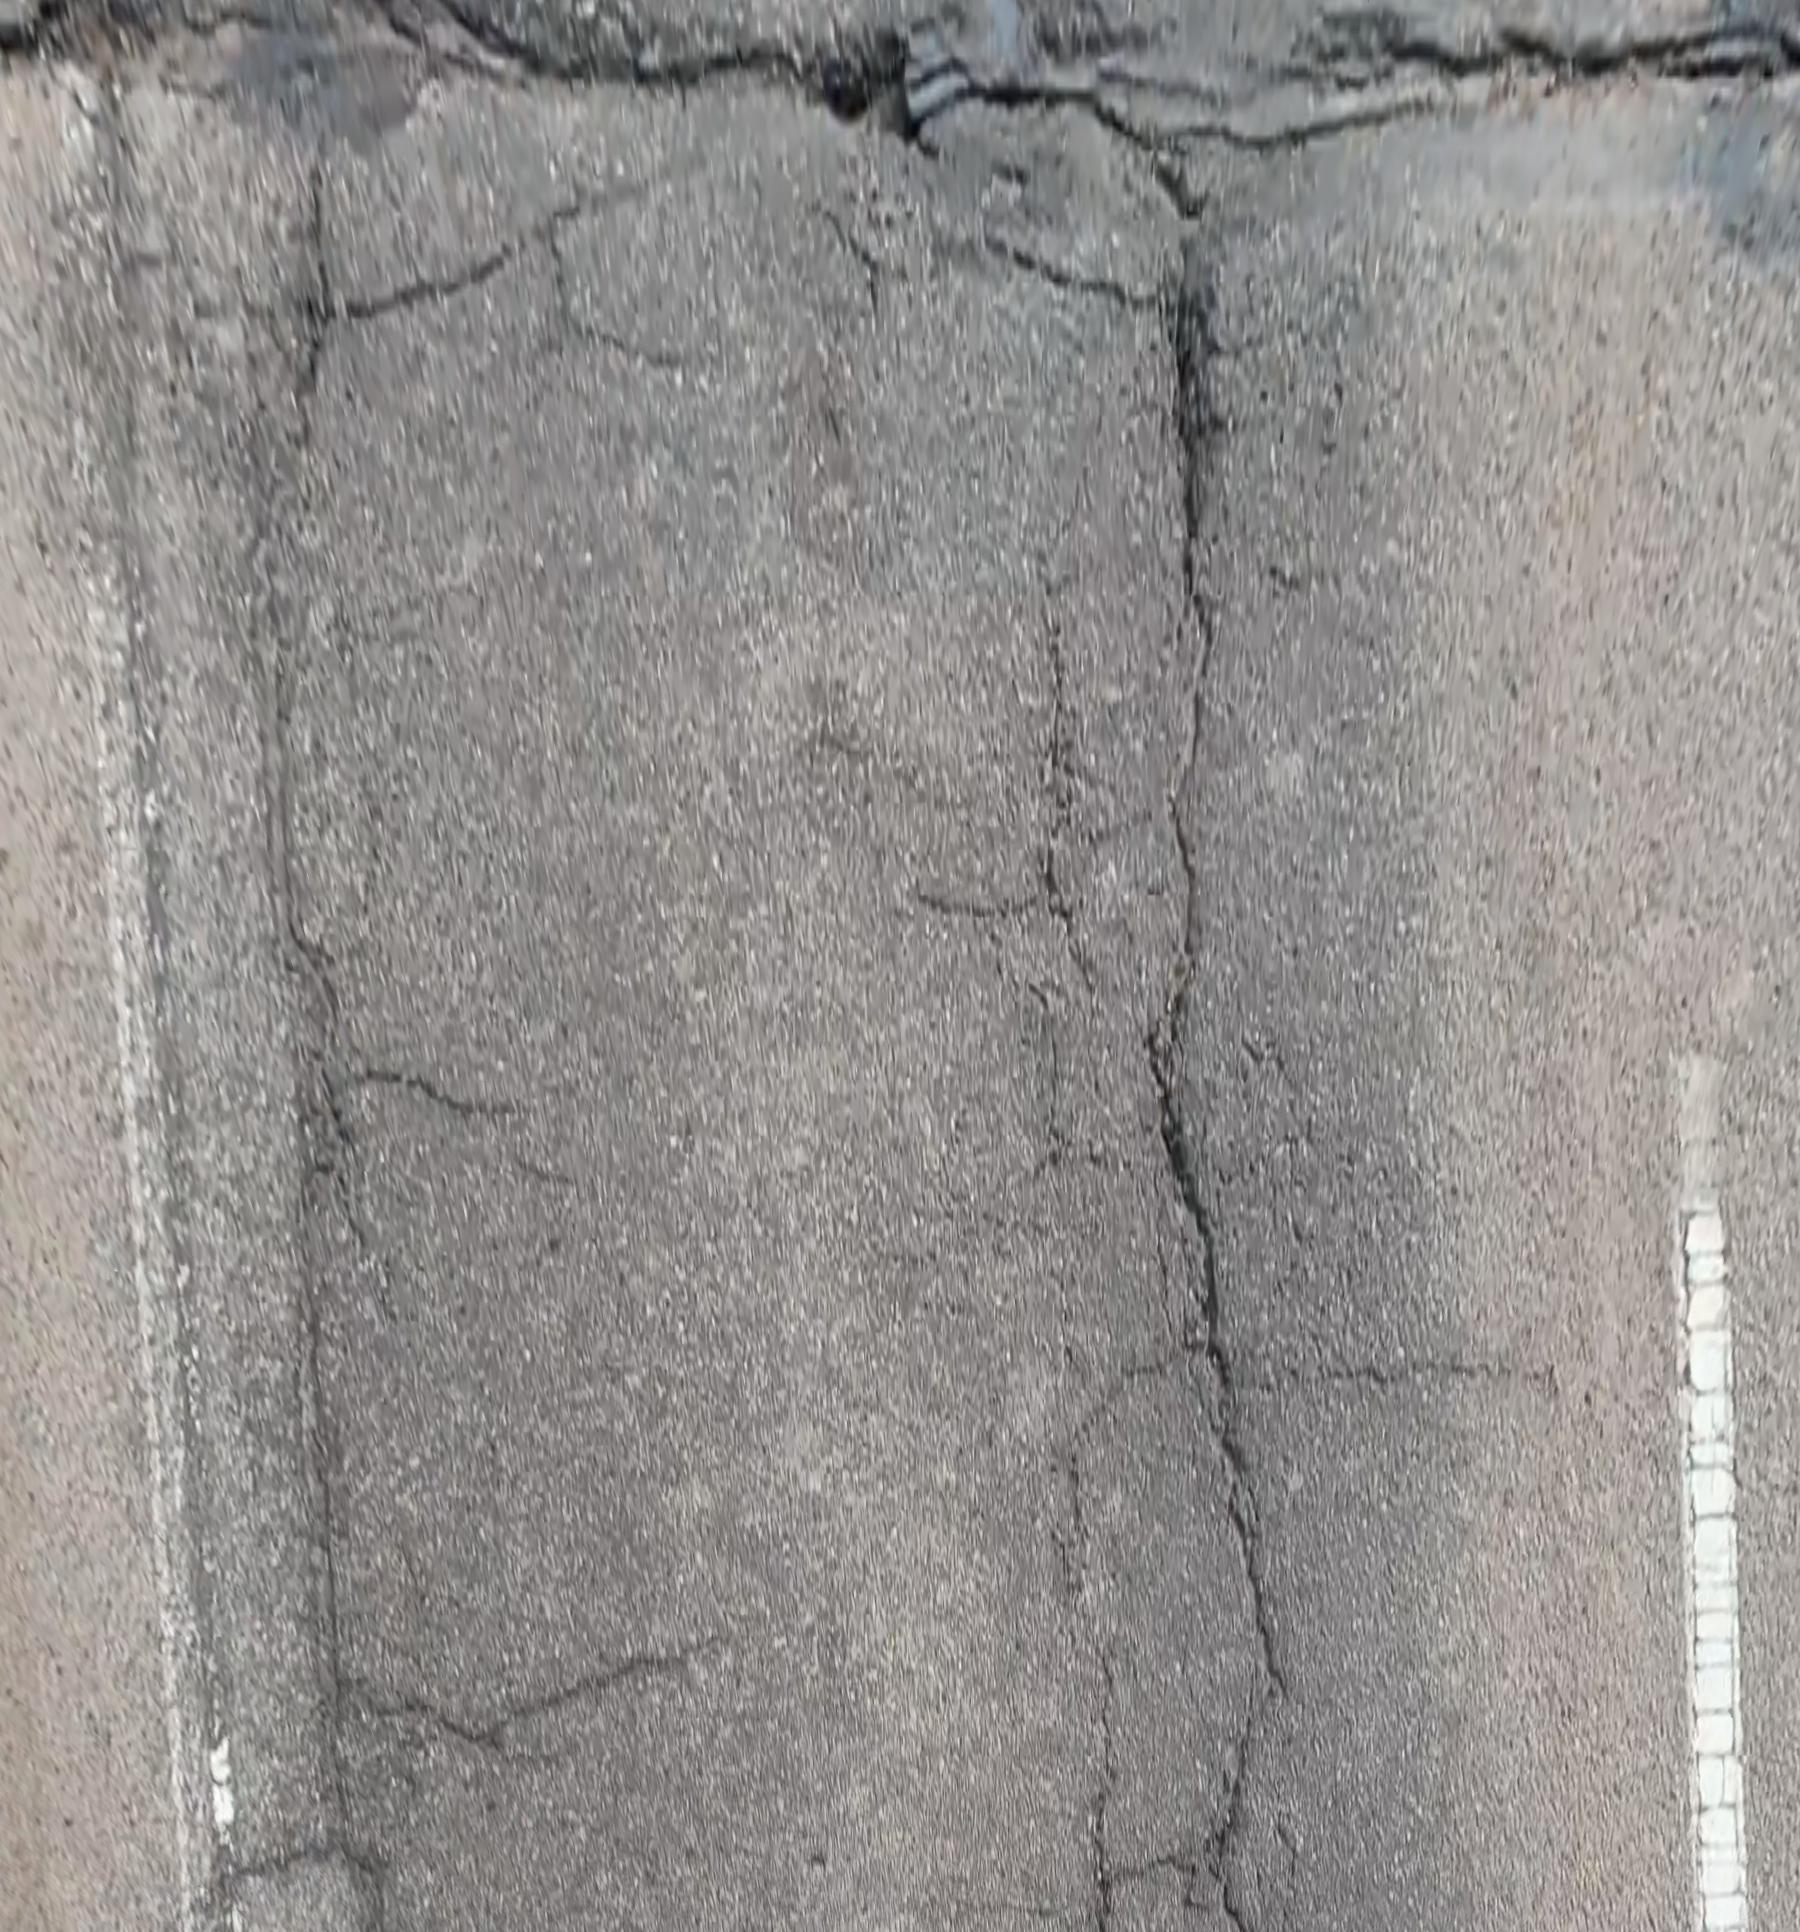pothole: (1172, 232, 1220, 587), (824, 68, 920, 144)
pothole_patch_poor: (0, 0, 1800, 296)
